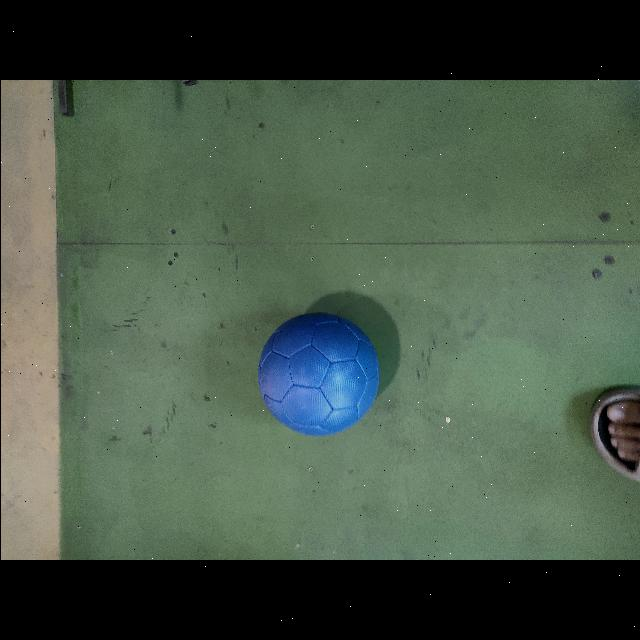B: (257, 312, 382, 437)
